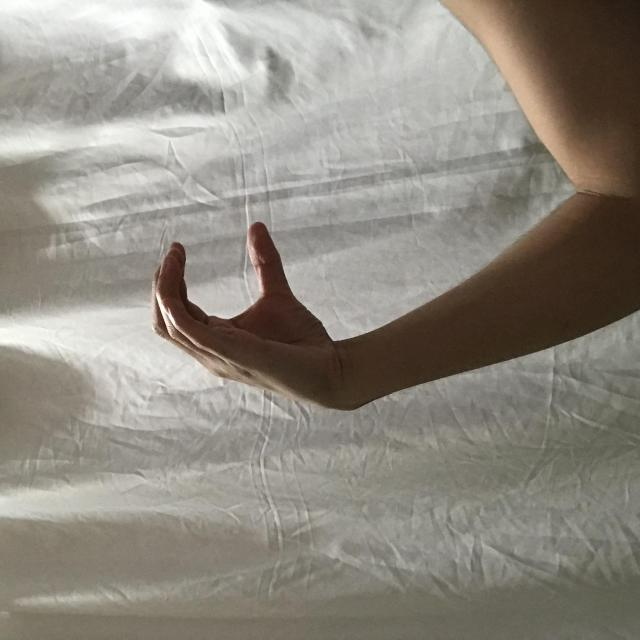C: (229, 154, 420, 342)
